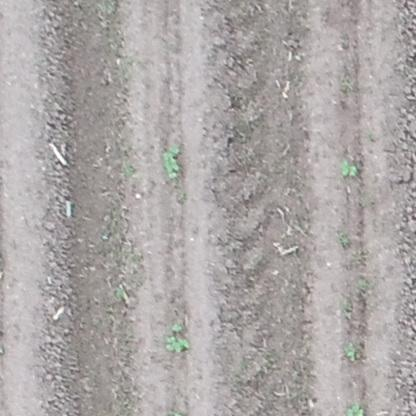vc: (164, 144, 183, 179), (340, 160, 361, 178), (166, 336, 189, 352), (346, 348, 359, 362)
